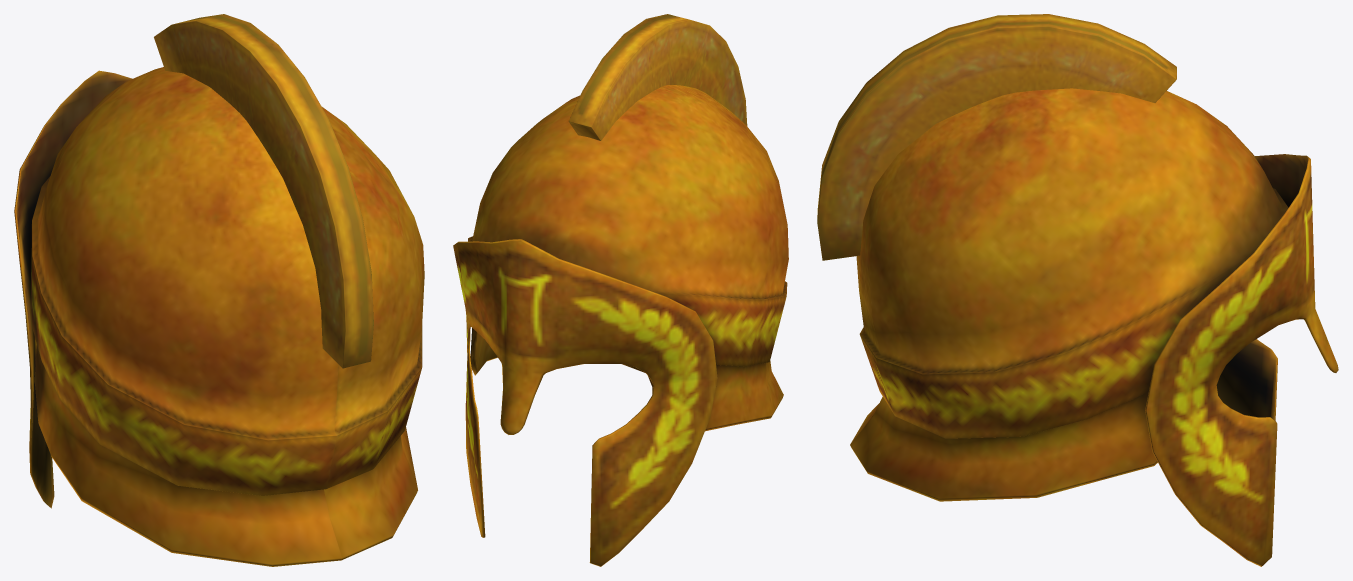
File: Roman_Helmet_Pickup.fbx
3 views of the same model, side by side, from view 1: azimuth 30°, elevation 25°; view 2: azimuth 150°, elevation 25°; view 3: azimuth 270°, elevation 25° (orthographic). The views are drawn at different scales.
Visible parts, largest first — view 1: Roman_Helmet_001; view 2: Roman_Helmet_001; view 3: Roman_Helmet_001.
Boxes of the visible parts, left/top/right/bottom form: Roman_Helmet_001: left=14, top=14, right=424, bottom=566; Roman_Helmet_001: left=453, top=14, right=788, bottom=566; Roman_Helmet_001: left=817, top=14, right=1338, bottom=566.
Size of the model in its own units: 396 by 622 by 572.
